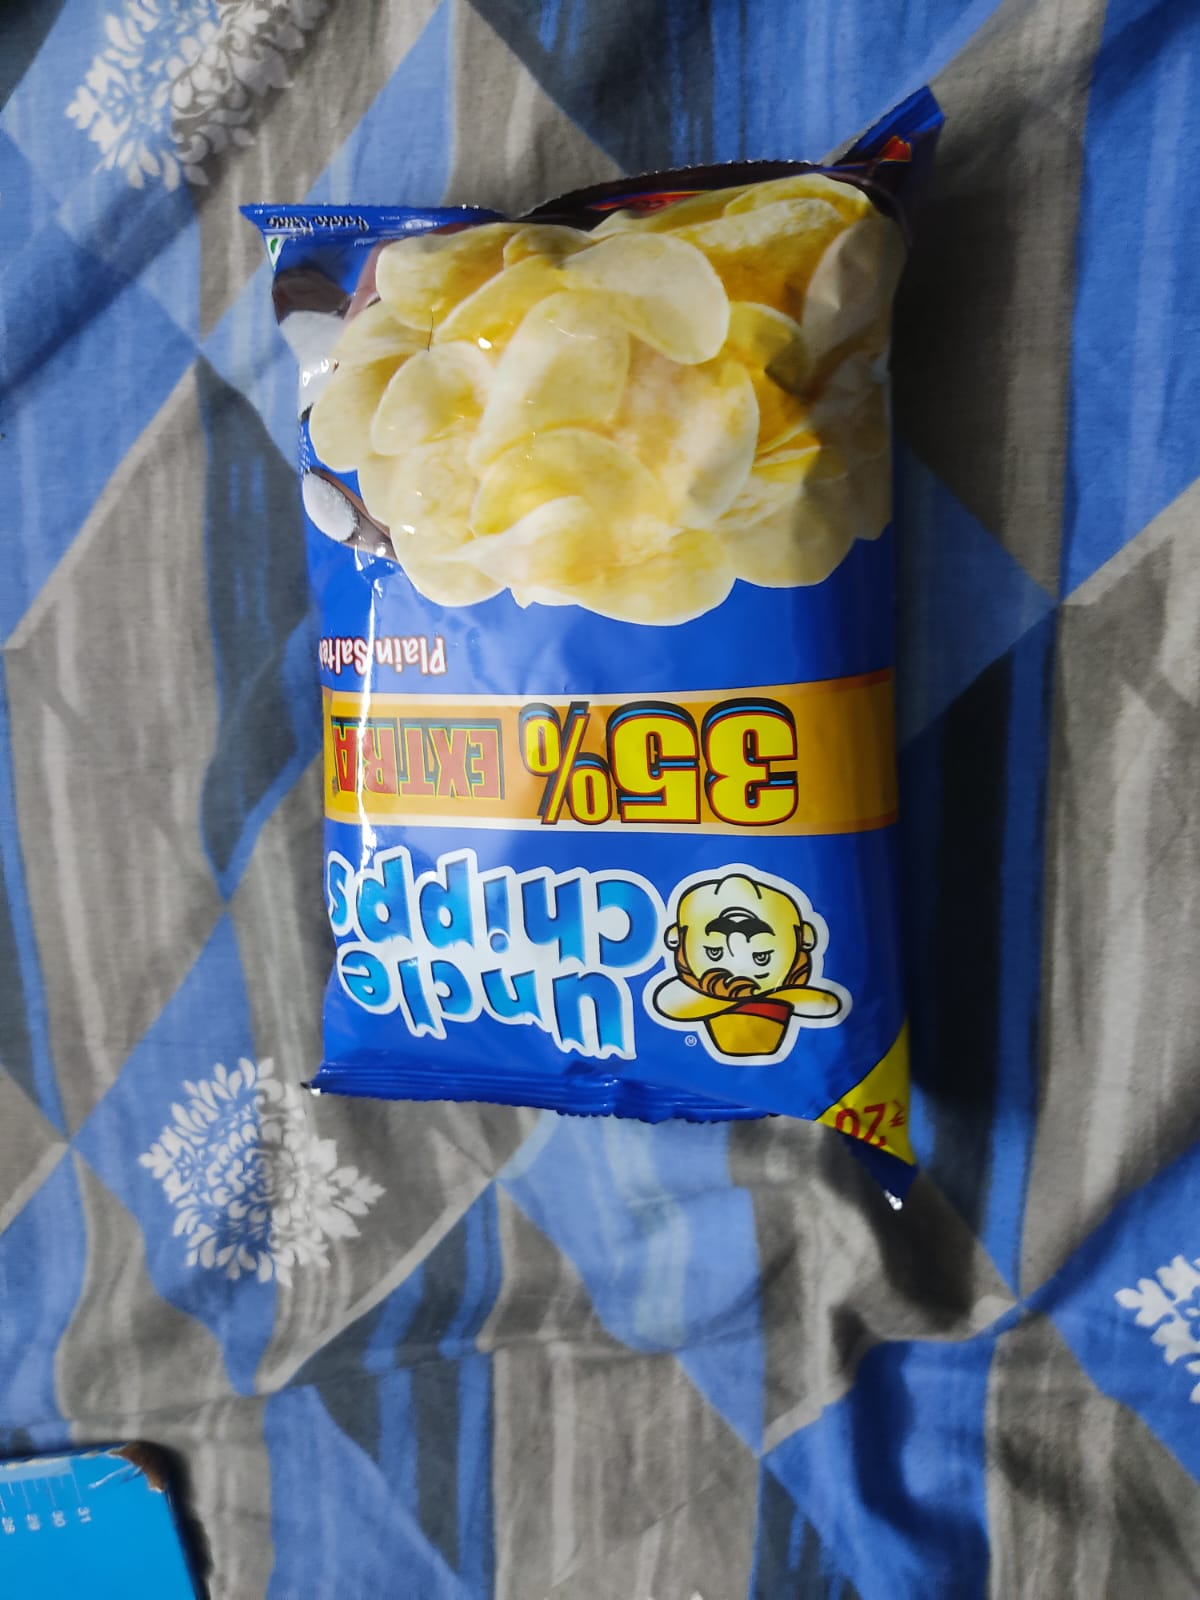020_UncleChips: (277, 164, 925, 1150)
